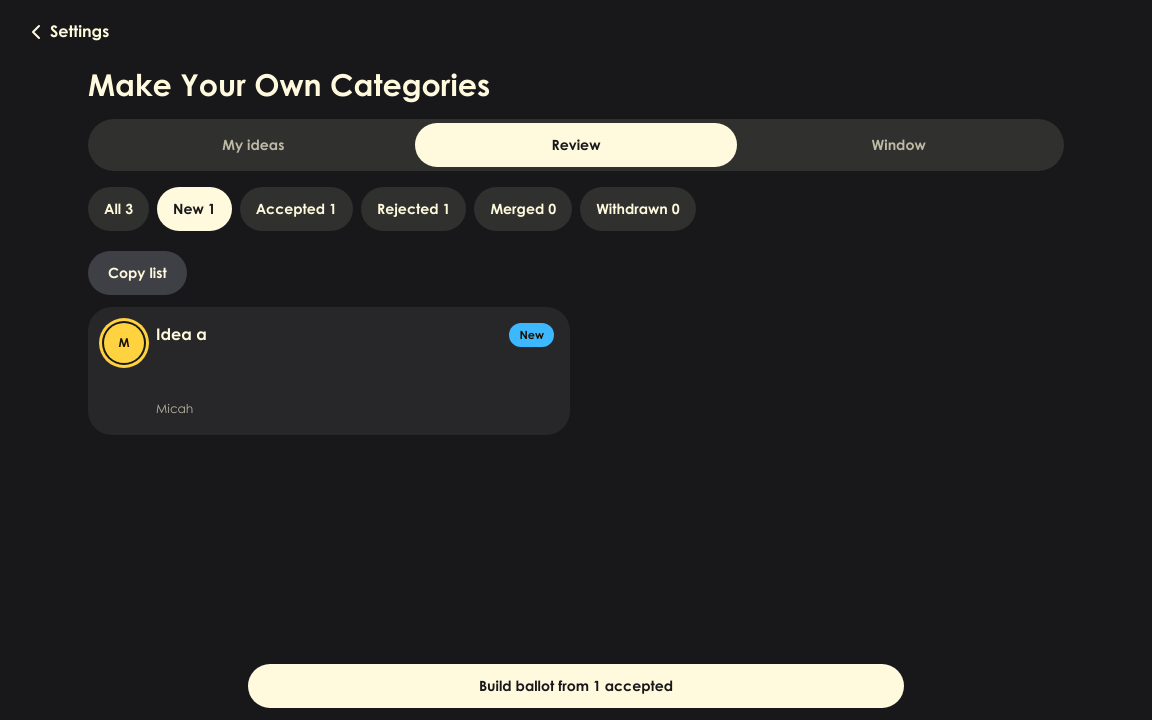
Test: committee › filters the inbox
The image size is (1152, 720).
Expected: the button with aria-label "Review Idea a" is shown, [88,307,570,435]
Click the button "Accepted 1". click: (296, 209)
box: [240,187,353,231]
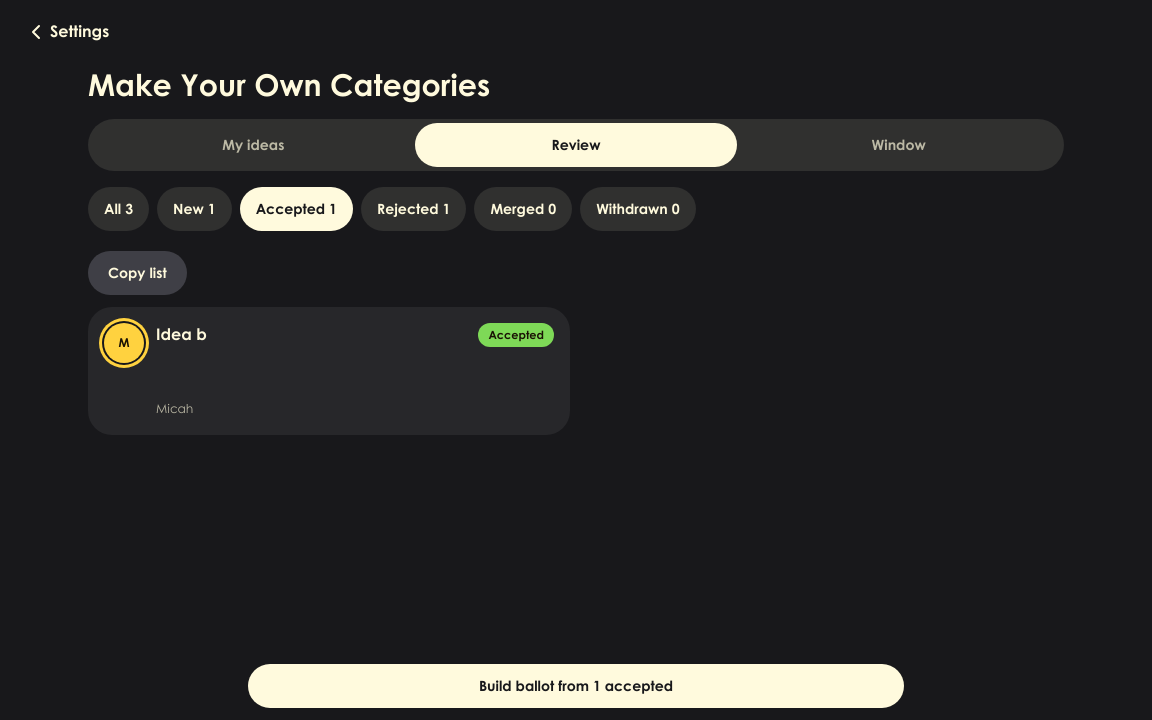
Result: the button with aria-label "Review Idea b" is shown at [88,307,570,435]
Click the button "All 3". click: (119, 209)
box: [88,187,149,231]
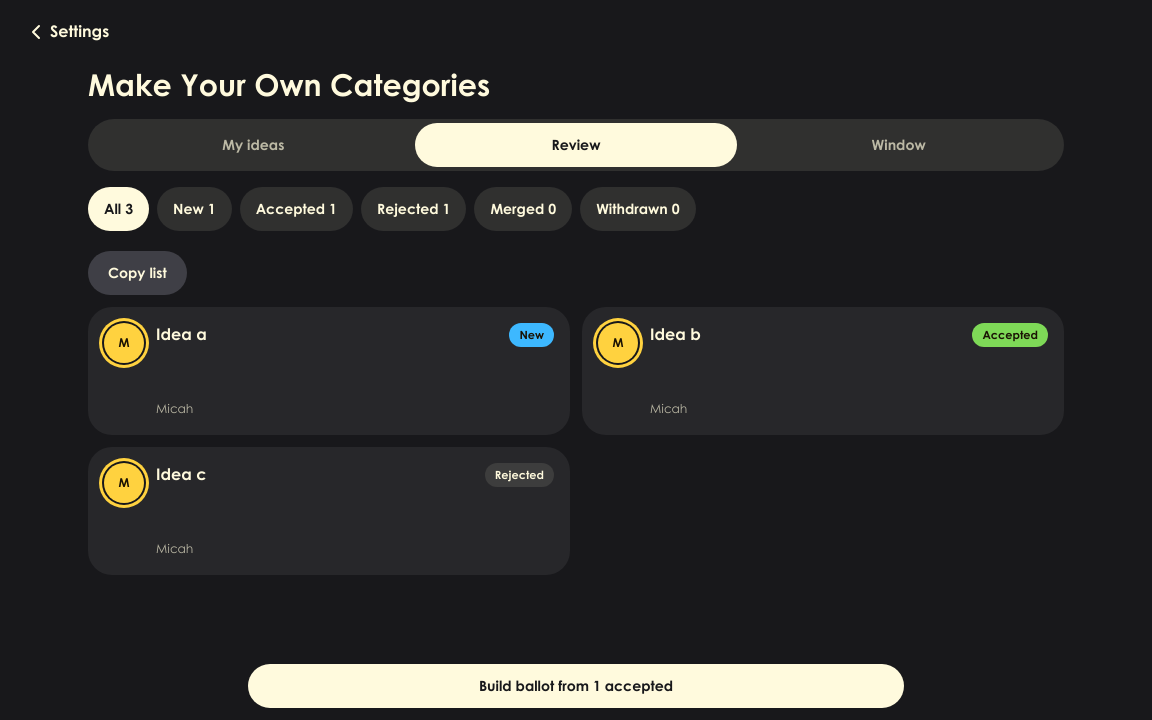
Result: the number of buttons named "Review " is 3 at [88,307,570,435]; [582,307,1064,435]; [88,447,570,575]
